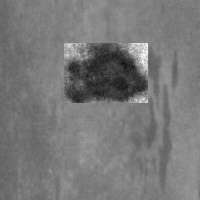inclusion: (135, 43, 180, 196)
patches: (64, 43, 148, 103)
